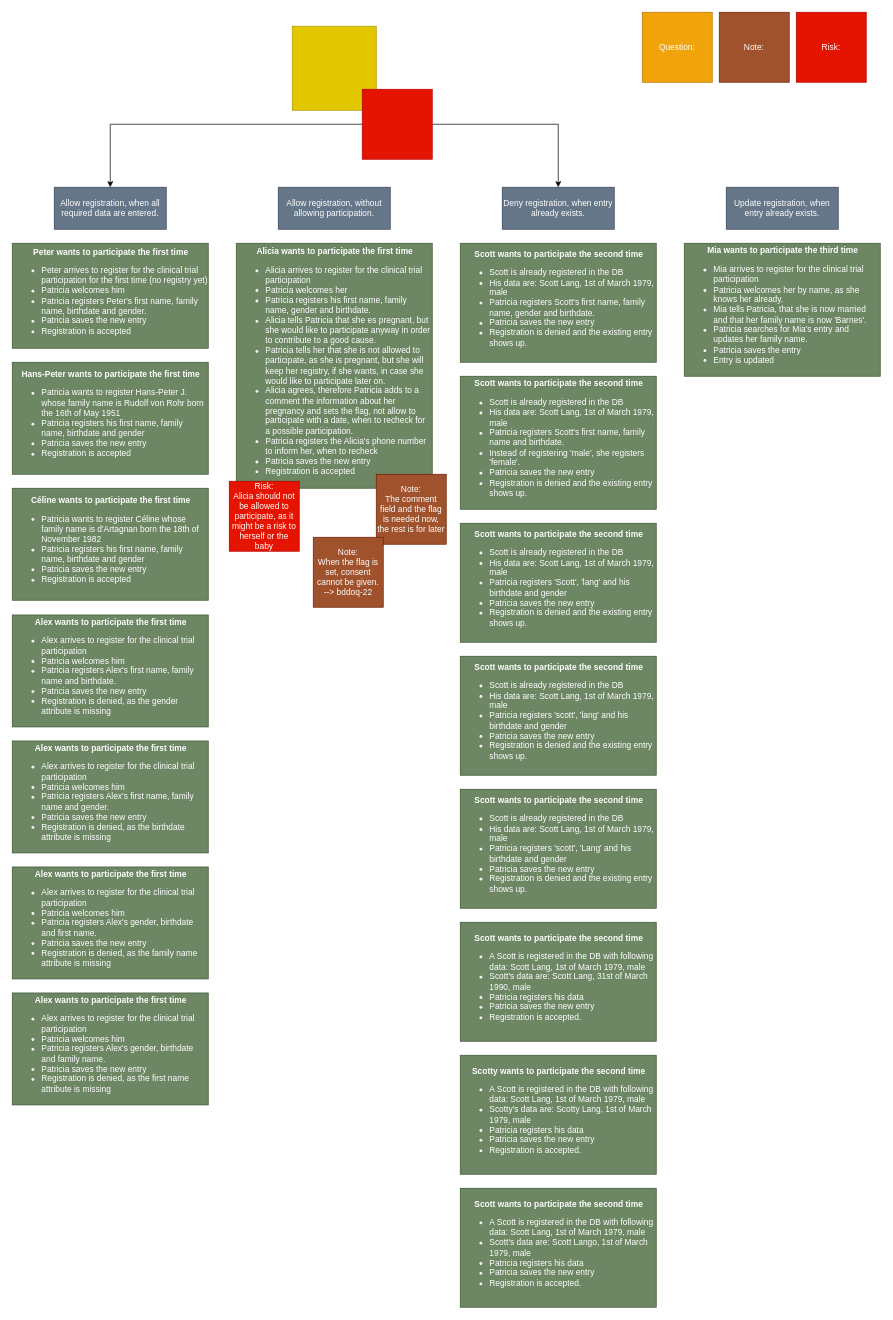
Image size: 893x1320. Some labels were removed from this diagram. Each missing label, with the centre of its shape:
"Participant Registration" belongs at (334,68).
"Risk: Wrong or unclear identification of participants Danger of mix-up" belongs at (397,124).
